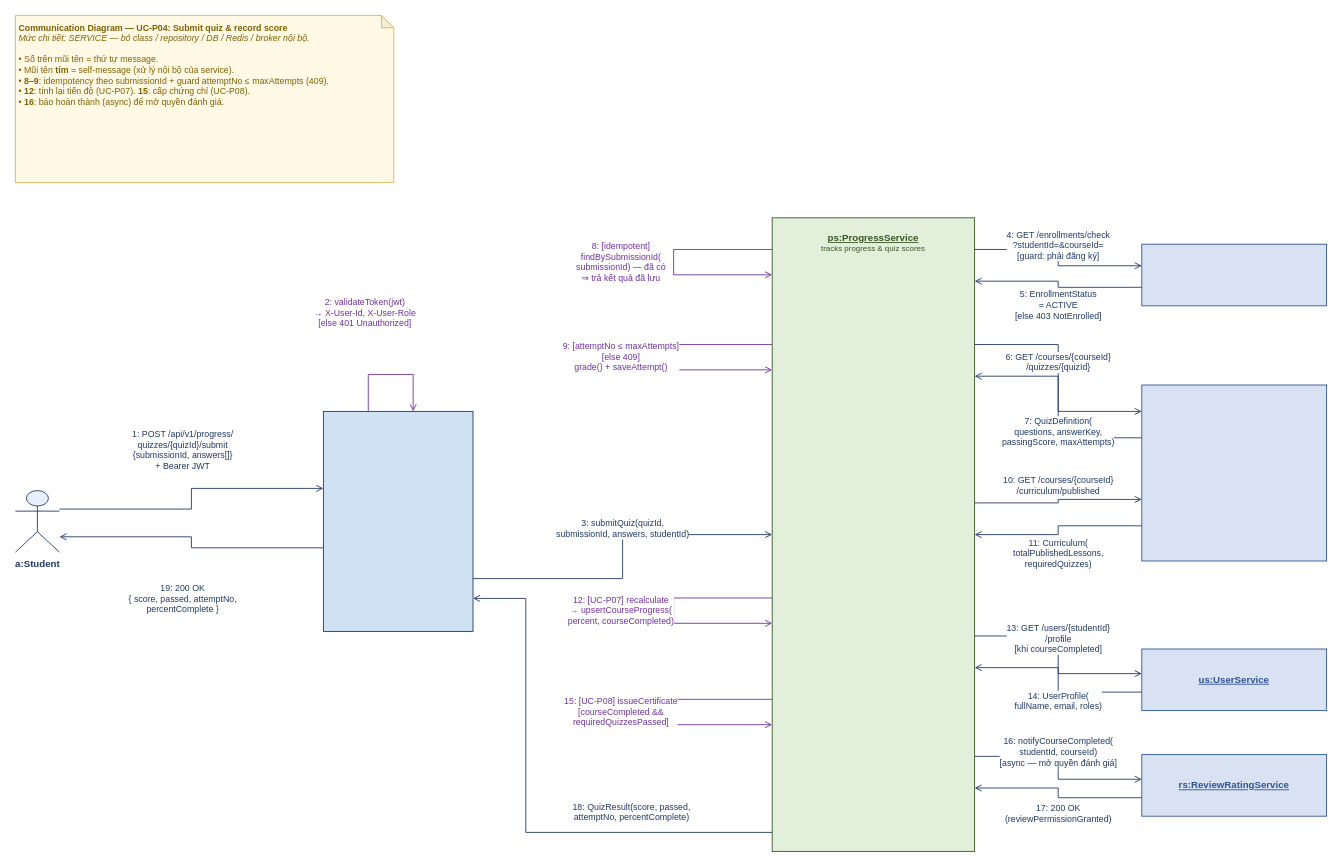
The diagram is 1342 pixels wide and 867 high, and some of its shapes have lost their labels. Here are the shapes that lost their labels. From the top down, the centre of each, then its label:
the point at 1234,274: enr:EnrollmentService
the point at 1234,472: cs:CourseService
the point at 398,521: gw:ApiGateway «Spring Cloud Gateway»
